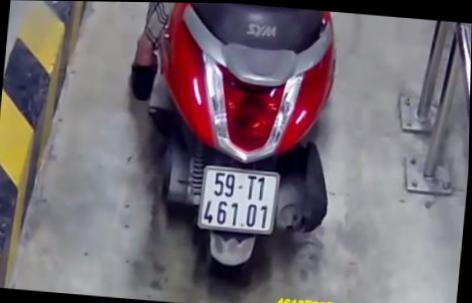LP: (196, 161, 282, 235)
